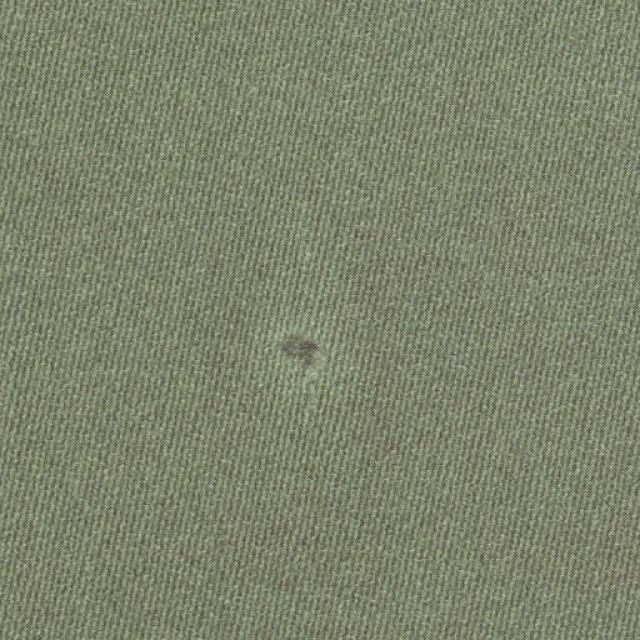Hole: (278, 334, 326, 375)
